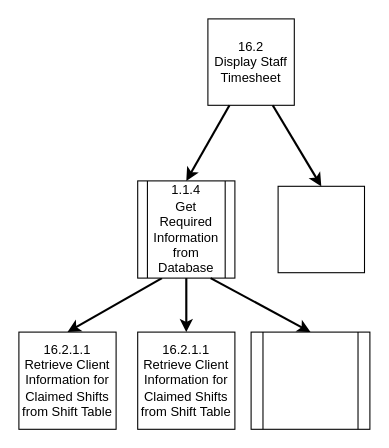
Some shapes in this 389 by 448 pixel diagram are drawn without their labels. The shapes that lost their labels are listed below. From the top down, each one's centre as x and y in pixels, then its label:
the point at 320,229: 16.2.2 Display Timesheet of Selected Staff Member
the point at 310,380: 16.2.1.3 Retrieve List of Departments from Department Table
